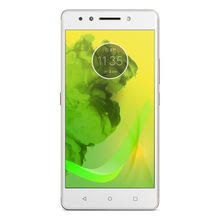lenovo: (56, 6, 161, 213)
